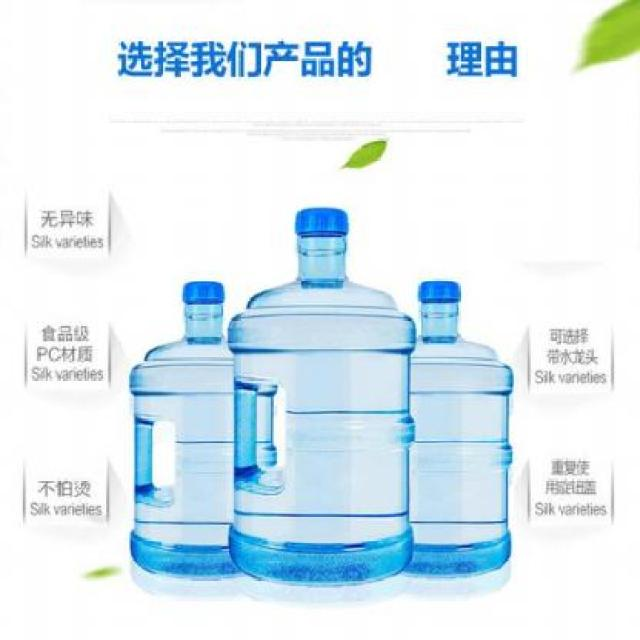coolerbottle: (226, 202, 420, 593)
